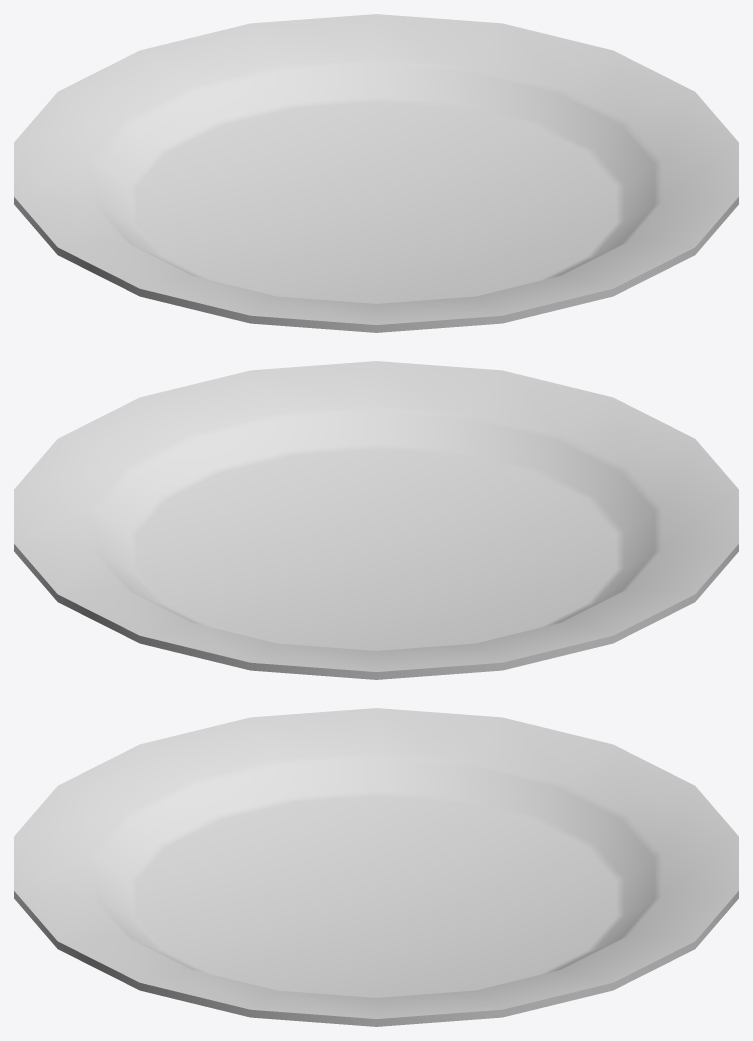
The model's file is Dish.fbx.
The picture shows the model from 3 angles, top to bottom: view 1: azimuth 30°, elevation 25°; view 2: azimuth 150°, elevation 25°; view 3: azimuth 270°, elevation 25°; orthographic projection.
Parts seen in each view (by area): view 1: Dish; view 2: Dish; view 3: Dish.
Boxes of the visible parts, x1,y1,x2,y2 form: Dish: (14, 14, 738, 332); Dish: (14, 361, 738, 679); Dish: (14, 708, 738, 1026).
Size of the model in its own units: 11.45 by 0.7439 by 11.27.
